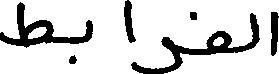X: (0, 0, 51, 52), (137, 32, 182, 73), (207, 26, 228, 59), (126, 0, 135, 73), (251, 8, 257, 53), (273, 7, 278, 60), (85, 15, 91, 46)
